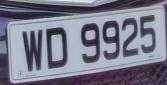2: (120, 12, 141, 62)
5: (138, 10, 159, 58)
9: (77, 18, 103, 69), (100, 15, 123, 65)
D: (44, 23, 71, 73)
W: (21, 24, 44, 77)
